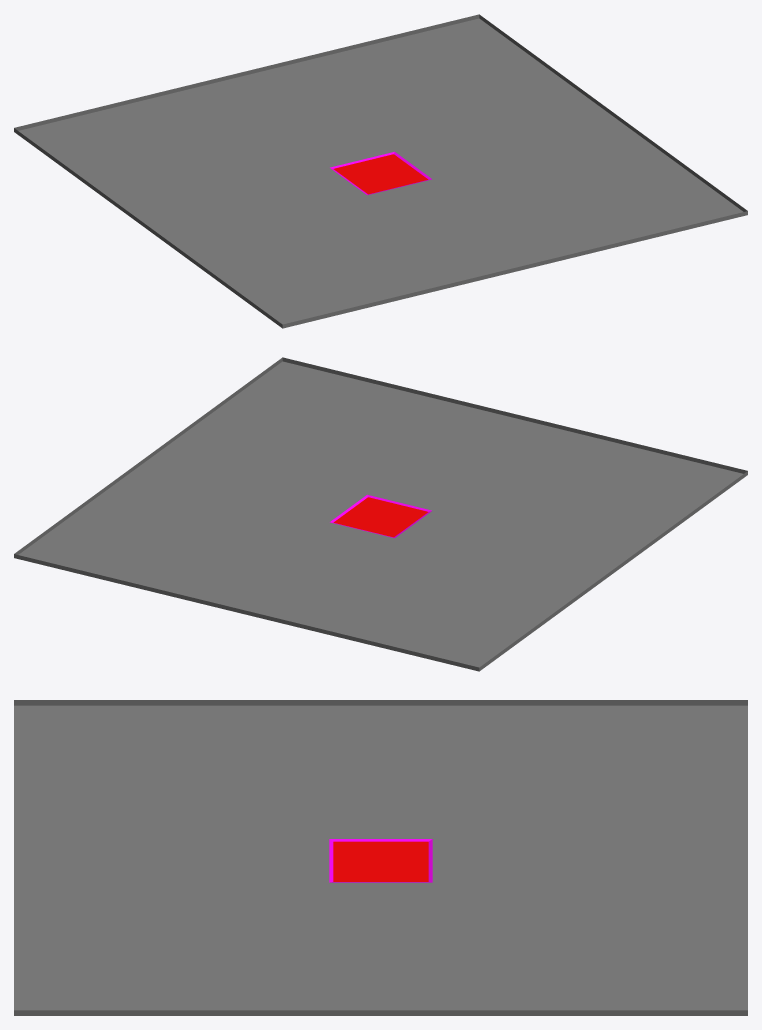
Rendered from ceil_616.fbx.
3 renders of one model, top to bottom at view 1: azimuth 30°, elevation 25°; view 2: azimuth 150°, elevation 25°; view 3: azimuth 270°, elevation 25°, orthographic. The views are drawn at different scales.
Visible parts, largest first — view 1: ceil_616; view 2: ceil_616; view 3: ceil_616.
Boxes of the visible parts, x1,y1,x2,y2 form: ceil_616: (14,14,747,328); ceil_616: (14,357,747,671); ceil_616: (14,700,747,1015).
Bounding box in the file's own units: 600 × 5.96 × 600.
